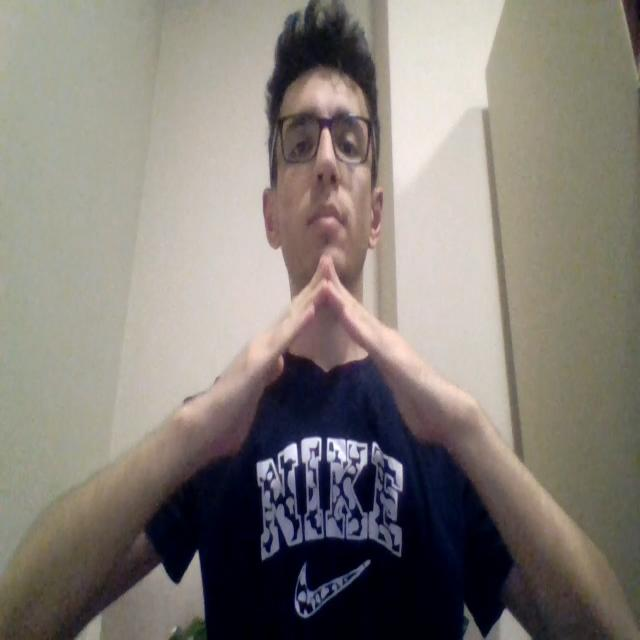house: (195, 258, 459, 450)
